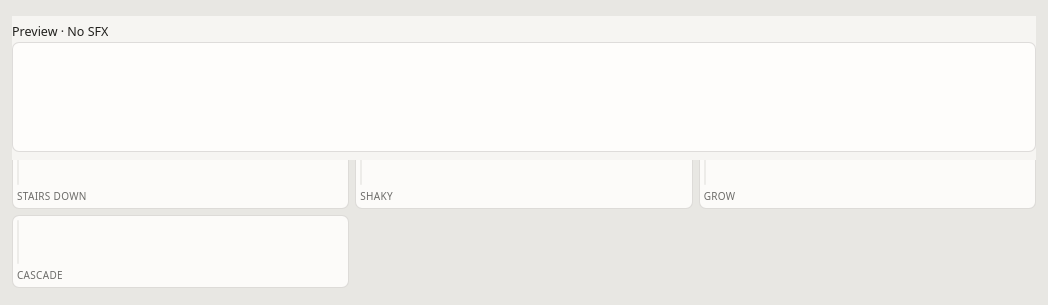
Test: under the Rust engine › applies a preset on a click, tells the Inspector, and marks the card
The width and height of the screenshot is (1048, 305).
Click the radio button labelled "Cascade" at (40, 275), box [12,215,349,288]
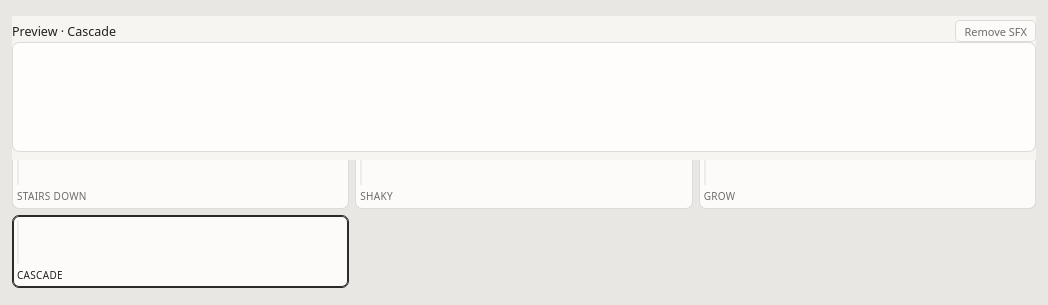
Expected: the text "Preview · Cascade" is shown, [12,22,116,40]
Expected: the button "Remove SFX" is shown, [955,20,1036,42]
